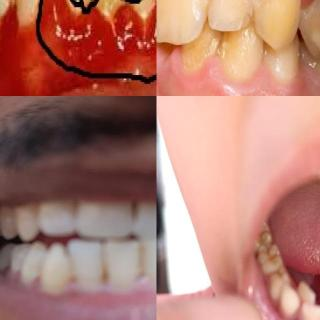Gum Swelling: (156, 48, 305, 96), (43, 0, 113, 58), (112, 4, 148, 54), (146, 6, 156, 50)
calculus: (77, 0, 103, 10)
maligned: (72, 196, 138, 238), (41, 241, 75, 295), (293, 270, 320, 307), (134, 195, 156, 237), (0, 0, 14, 33)
plaque: (181, 23, 221, 76), (157, 0, 209, 36), (223, 25, 259, 77), (209, 0, 255, 35), (258, 0, 300, 35), (299, 0, 320, 35)
